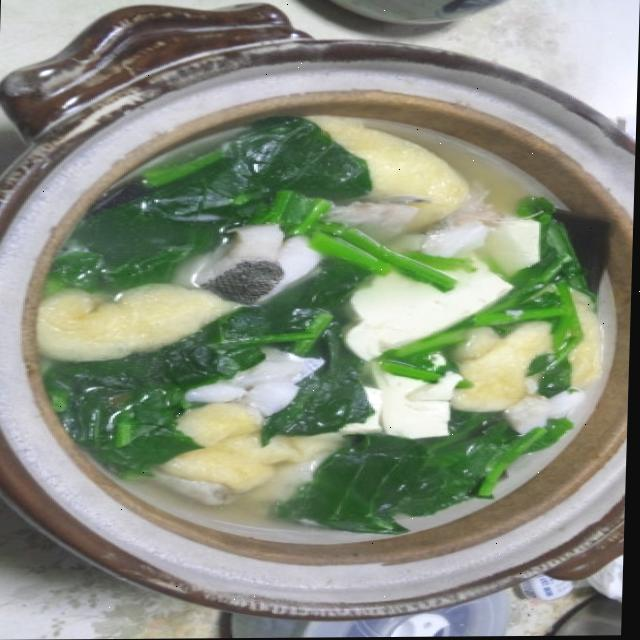豆腐料理: (22, 100, 620, 556)
